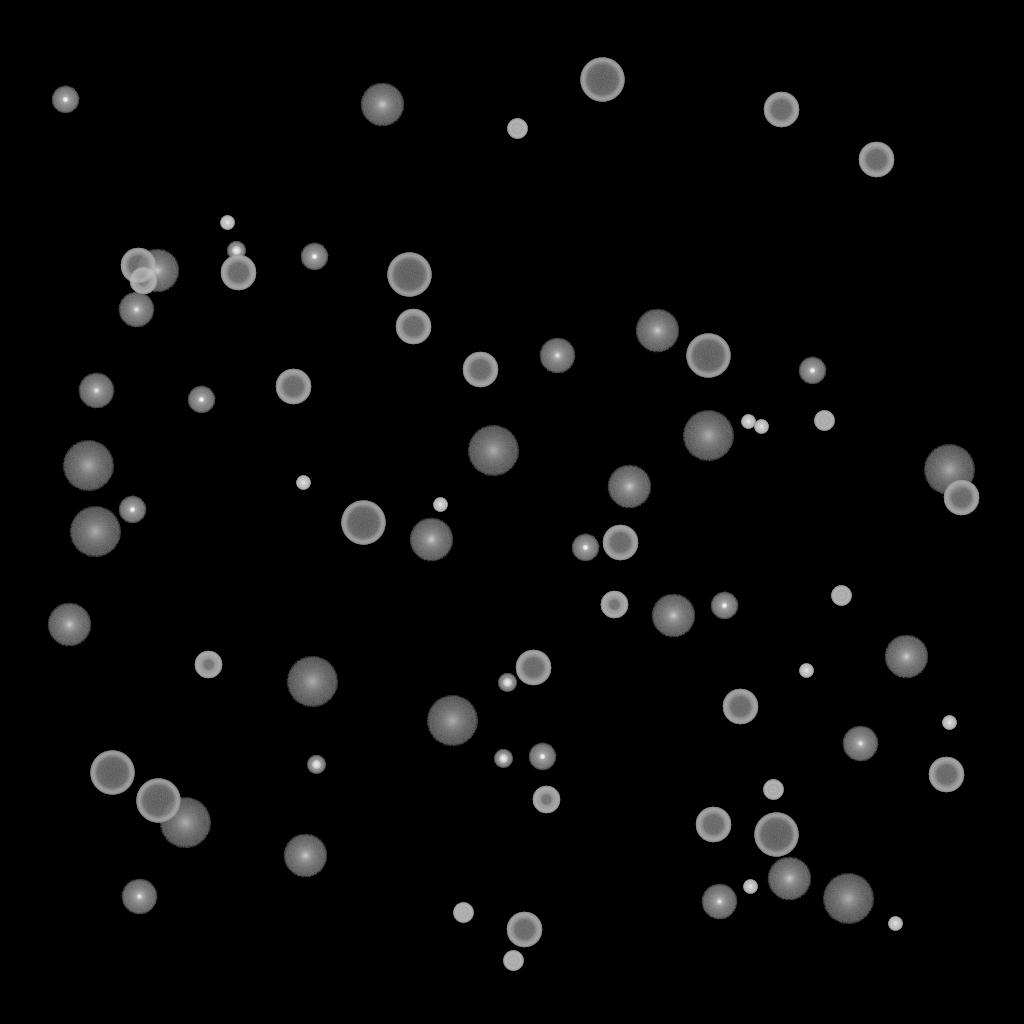depth:-10: (528, 743, 556, 771), (300, 243, 328, 271), (118, 496, 146, 524), (710, 592, 738, 620), (571, 534, 599, 562), (187, 386, 215, 414), (51, 86, 79, 114), (798, 357, 826, 385)
depth:-20: (498, 674, 516, 692), (227, 242, 245, 260), (494, 750, 512, 768), (307, 756, 325, 774)
depth:-30: (220, 216, 234, 230), (942, 716, 956, 730), (799, 664, 813, 678), (296, 476, 310, 490), (741, 415, 755, 429), (754, 420, 768, 434), (433, 498, 447, 512), (888, 917, 902, 931), (743, 880, 757, 894)
depth:-40: (503, 951, 523, 971), (831, 586, 851, 606), (763, 780, 783, 800), (453, 903, 473, 923), (814, 411, 834, 431), (507, 119, 527, 139)
depth:-50: (600, 591, 628, 619), (129, 267, 157, 295), (532, 786, 560, 814), (194, 651, 222, 679)
depth:-60: (695, 807, 731, 843), (275, 369, 311, 405), (220, 255, 256, 291), (943, 480, 979, 516), (858, 142, 894, 178), (120, 248, 156, 284), (515, 650, 551, 686), (602, 525, 638, 561), (462, 352, 498, 388), (763, 92, 799, 128), (506, 912, 542, 948), (722, 689, 758, 725), (395, 309, 431, 345), (928, 757, 964, 793)
depth:-70: (341, 501, 385, 545), (136, 779, 180, 823), (580, 58, 624, 102), (686, 334, 730, 378), (387, 253, 431, 297), (754, 813, 798, 857), (90, 751, 134, 795)
depth:0: (78, 373, 114, 409), (701, 884, 737, 920), (121, 879, 157, 915), (842, 726, 878, 762), (118, 292, 154, 328), (539, 338, 575, 374)
depth:10: (409, 518, 453, 562), (635, 309, 679, 353), (884, 635, 928, 679), (607, 465, 651, 509), (283, 834, 327, 878), (767, 857, 811, 901), (360, 83, 404, 127), (651, 594, 695, 638), (135, 249, 179, 293), (47, 603, 91, 647)
depth:20: (286, 657, 338, 707), (467, 426, 519, 476), (822, 874, 874, 924), (426, 696, 478, 746), (923, 445, 975, 495), (682, 411, 734, 461), (62, 441, 114, 491), (69, 507, 121, 557), (159, 798, 211, 848)
